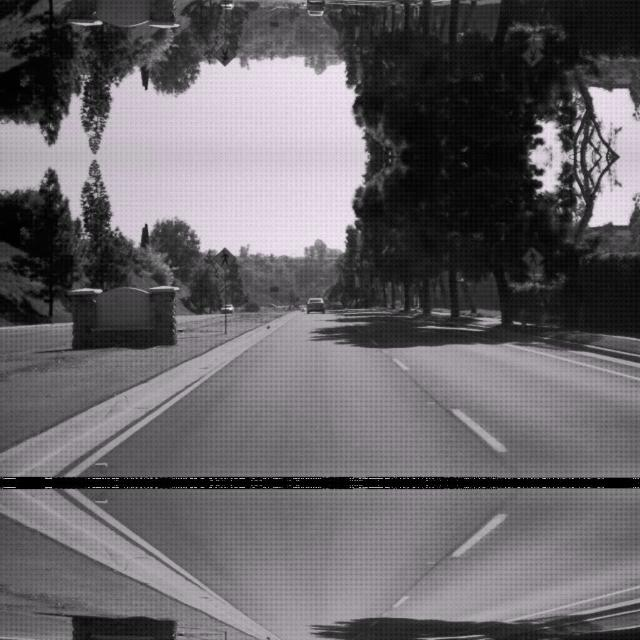pedestrianCrossing: (212, 244, 236, 270), (212, 42, 236, 68), (520, 245, 544, 269), (520, 43, 544, 67)
